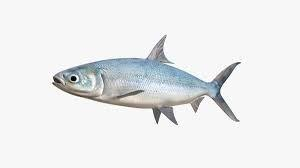Bangus: (50, 34, 240, 128)
